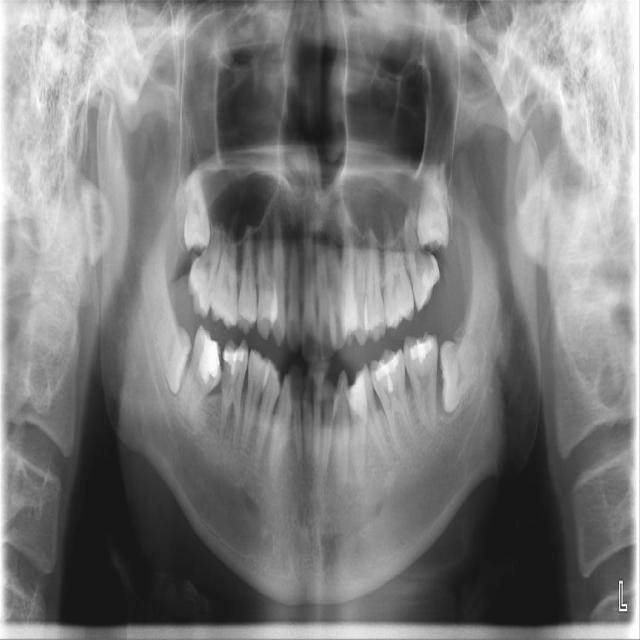Filling: (194, 327, 221, 387), (370, 351, 405, 394), (223, 340, 247, 382), (406, 335, 436, 365), (415, 269, 438, 302)
impacted tooth: (441, 341, 485, 411), (154, 311, 191, 391), (420, 152, 448, 252), (185, 165, 207, 249)
